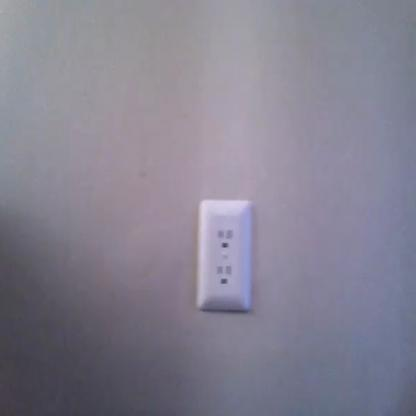OUTLET: (195, 200, 254, 311)
